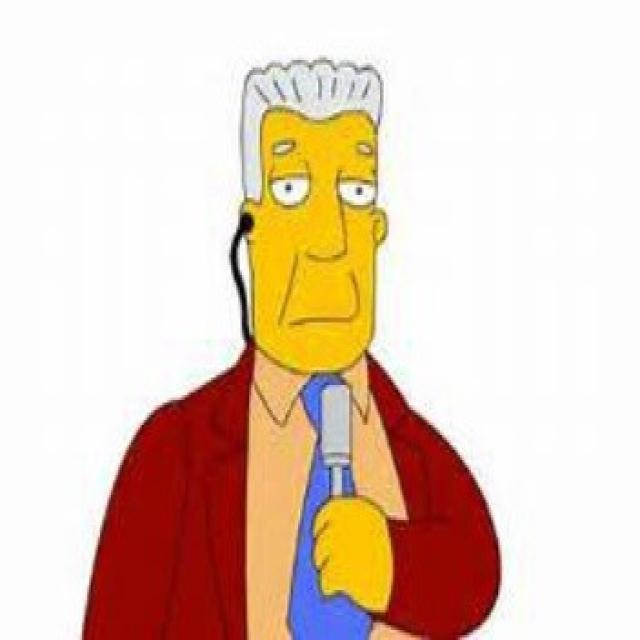Kent Brockman: (224, 52, 387, 378)
